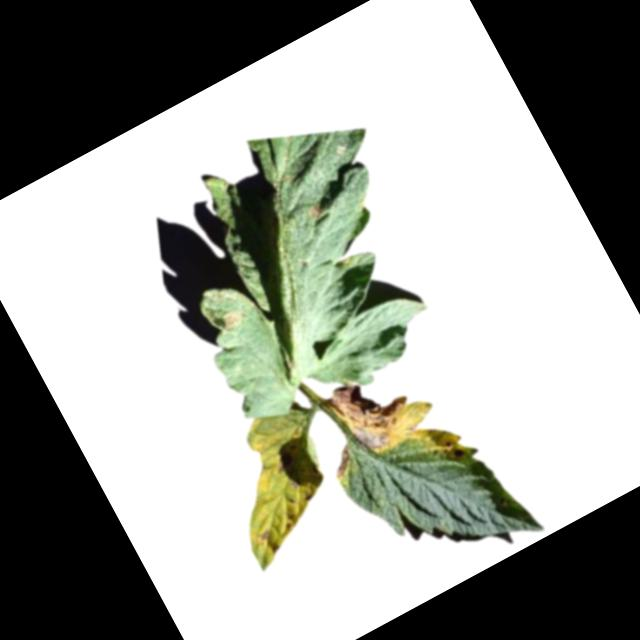Early_blight: (323, 357, 425, 462), (325, 443, 363, 480), (254, 523, 285, 560), (436, 441, 469, 472), (216, 308, 247, 336), (304, 201, 328, 224)
